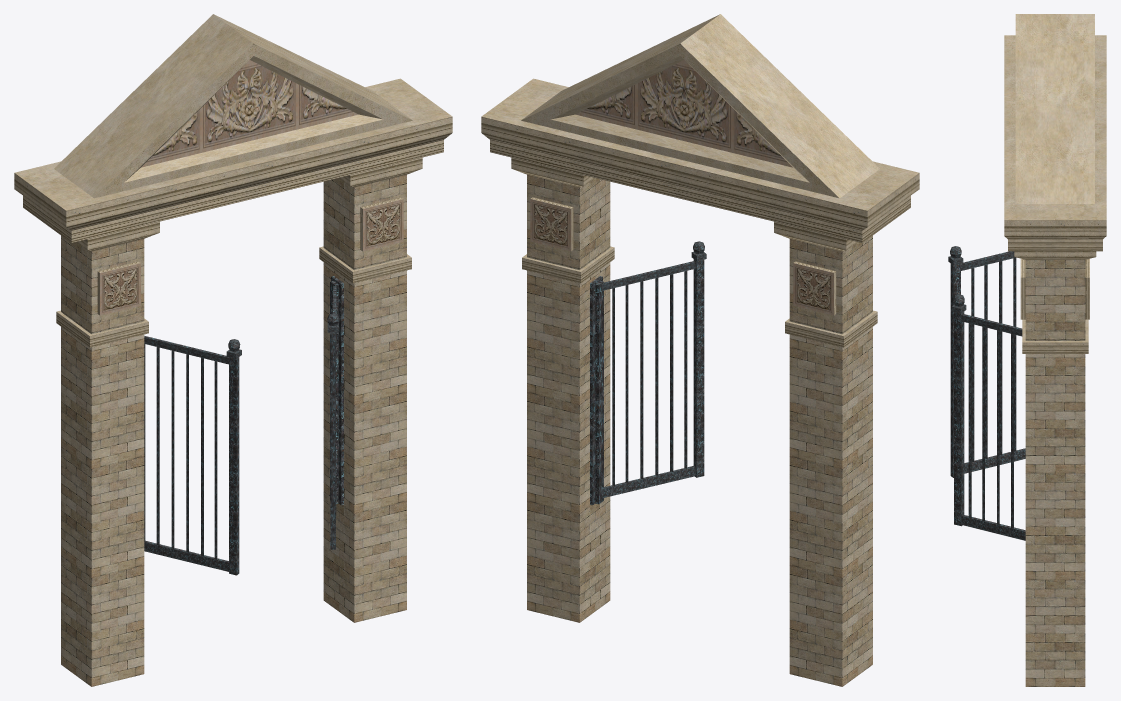
File: thm_nboo_imprv_narrow_gate_s02_l0.fbx
The picture shows the model from 3 angles, left to right: view 1: azimuth 30°, elevation 25°; view 2: azimuth 150°, elevation 25°; view 3: azimuth 270°, elevation 25°; orthographic projection.
Parts seen in each view (by area): view 1: mesh_node; view 2: mesh_node; view 3: mesh_node.
Part boxes in pixels (bbox=[...]): mesh_node: bbox=[14, 14, 452, 686]; mesh_node: bbox=[481, 14, 919, 686]; mesh_node: bbox=[948, 14, 1106, 686].
Size of the model in its own units: 7.31 by 11 by 2.64.
